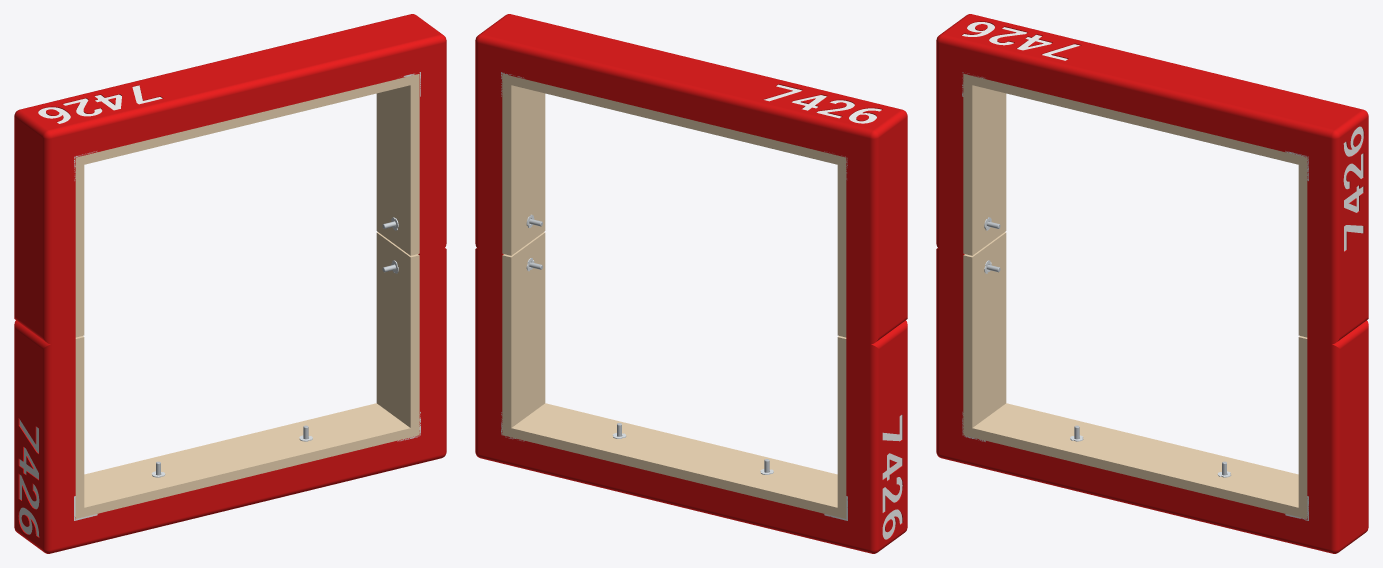
Rendered from robot-2026-bumpers.glb.
3 renders of one model, left to right at view 1: azimuth 30°, elevation 25°; view 2: azimuth 150°, elevation 25°; view 3: azimuth 330°, elevation 25°, orthographic.
Parts seen in each view (by area): view 1: Bumper (×2), BumperWoodHalf (×4), BumperWoodFull (×2); view 2: Bumper (×2), BumperWoodHalf (×4), BumperWoodFull (×2); view 3: Bumper (×2), BumperWoodHalf (×4), BumperWoodFull (×2).
Part boxes in pixels (x1=…): Bumper (×2): x1=14, y1=14, x2=446, y2=553; BumperWoodHalf (×4): x1=75, y1=74, x2=419, y2=518; BumperWoodFull (×2): x1=84, y1=76, x2=410, y2=516; Bumper (×2): x1=475, y1=14, x2=907, y2=553; BumperWoodHalf (×4): x1=502, y1=74, x2=846, y2=518; BumperWoodFull (×2): x1=511, y1=76, x2=837, y2=516; Bumper (×2): x1=936, y1=14, x2=1368, y2=553; BumperWoodHalf (×4): x1=963, y1=74, x2=1307, y2=518; BumperWoodFull (×2): x1=972, y1=76, x2=1298, y2=516.
Bounding box in the file's own units: 0.8668 × 0.8699 × 0.127.
